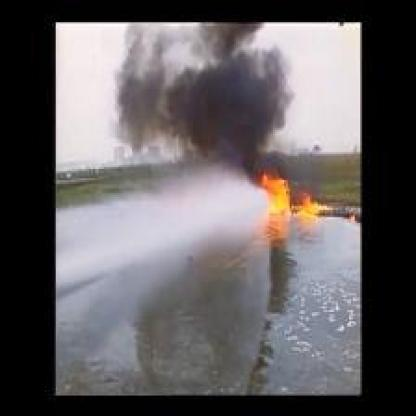fire: (255, 166, 312, 221)
smoke: (116, 24, 283, 157)
